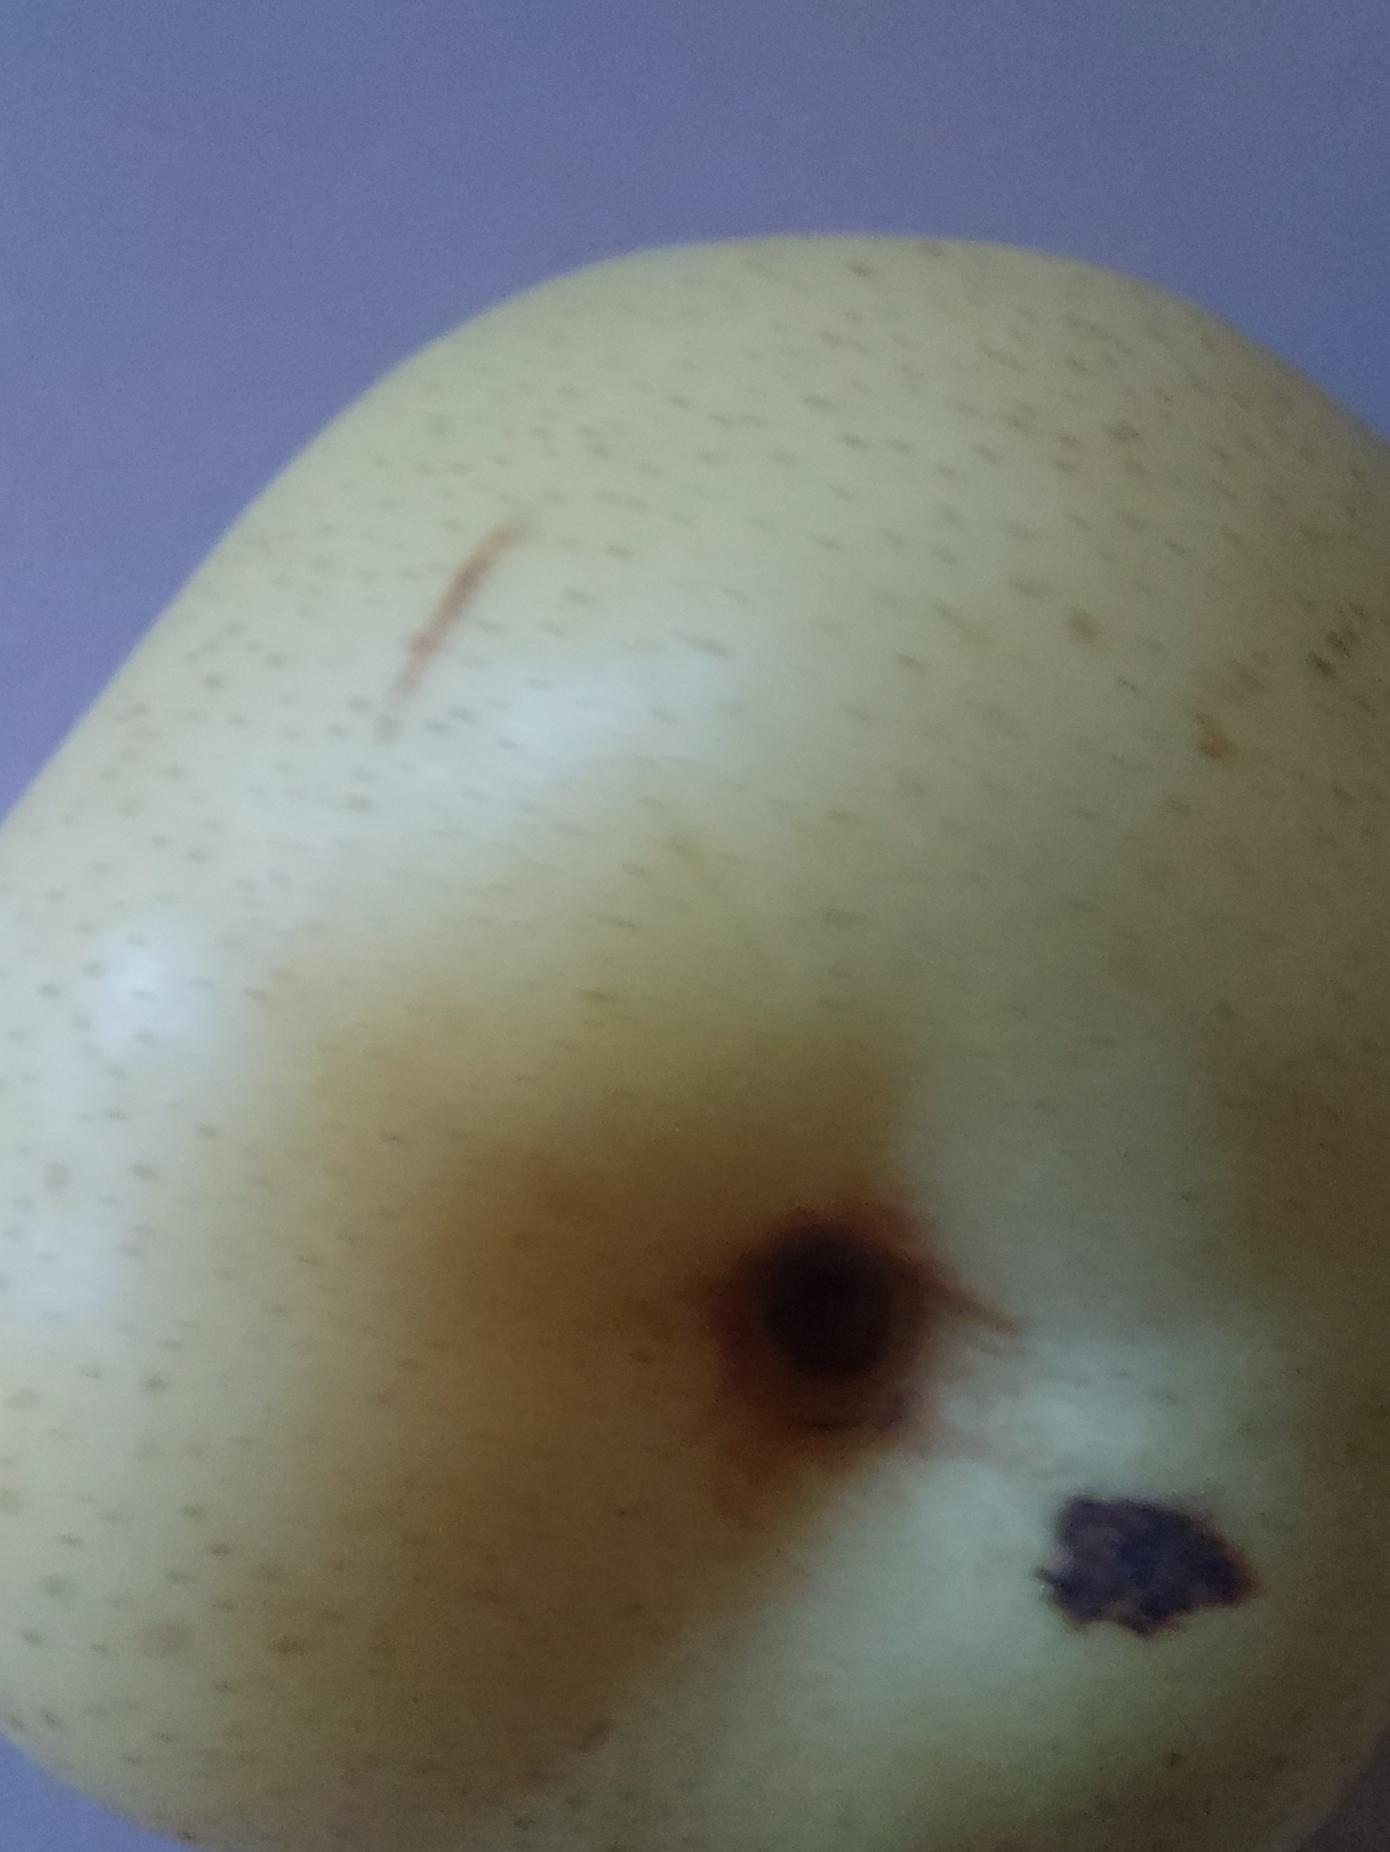Good Pear: (0, 215, 1390, 1852)
